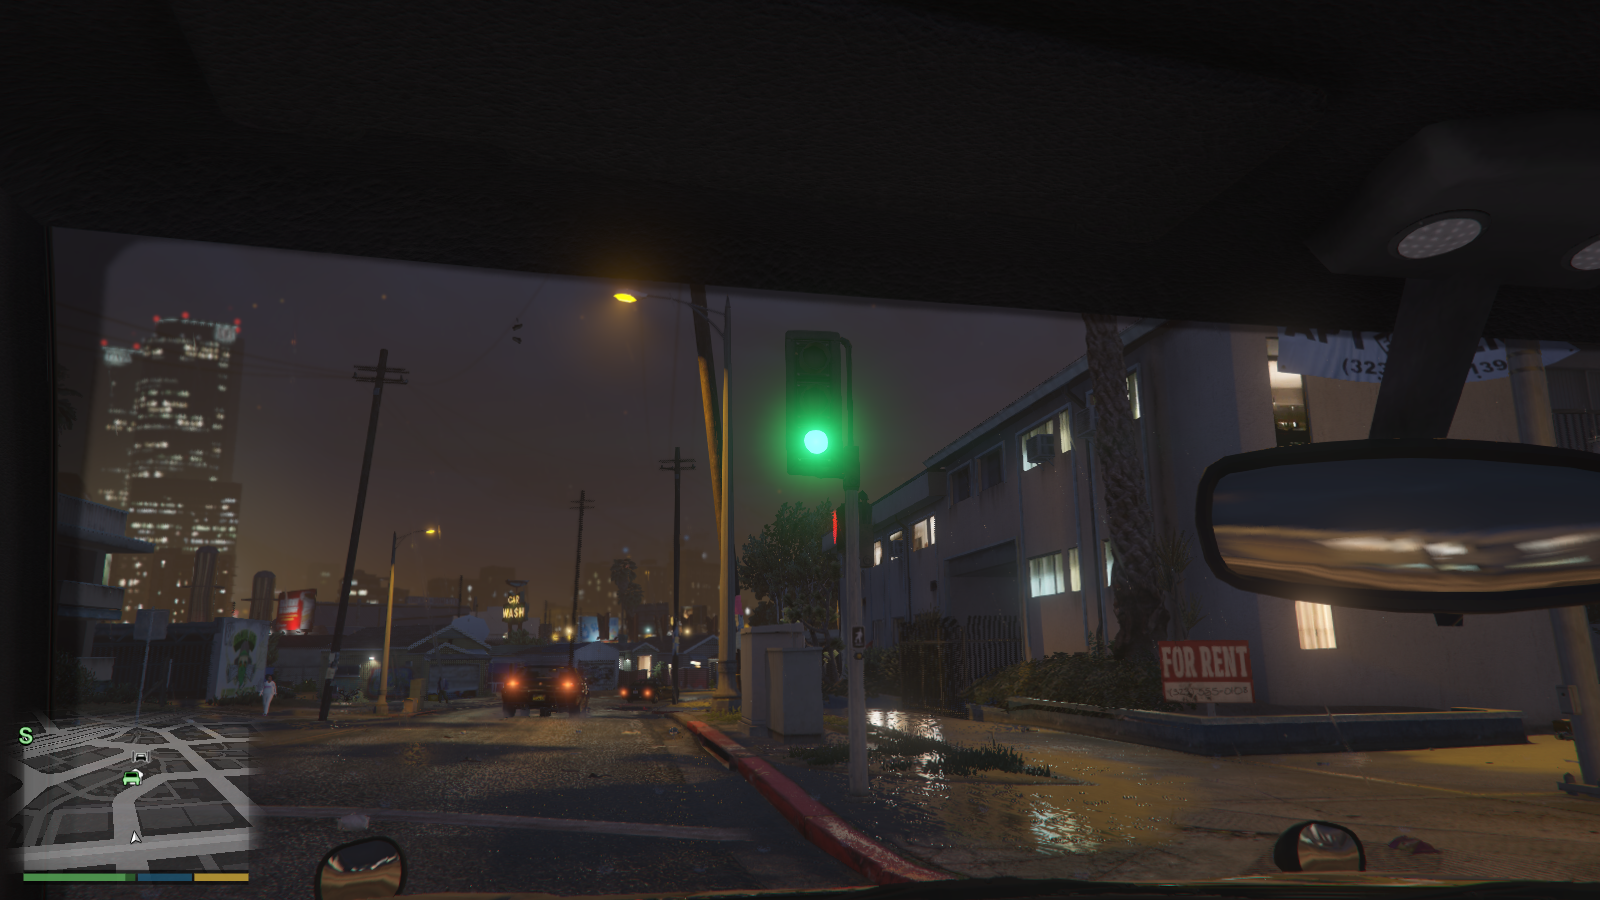green: (785, 329, 848, 481)
